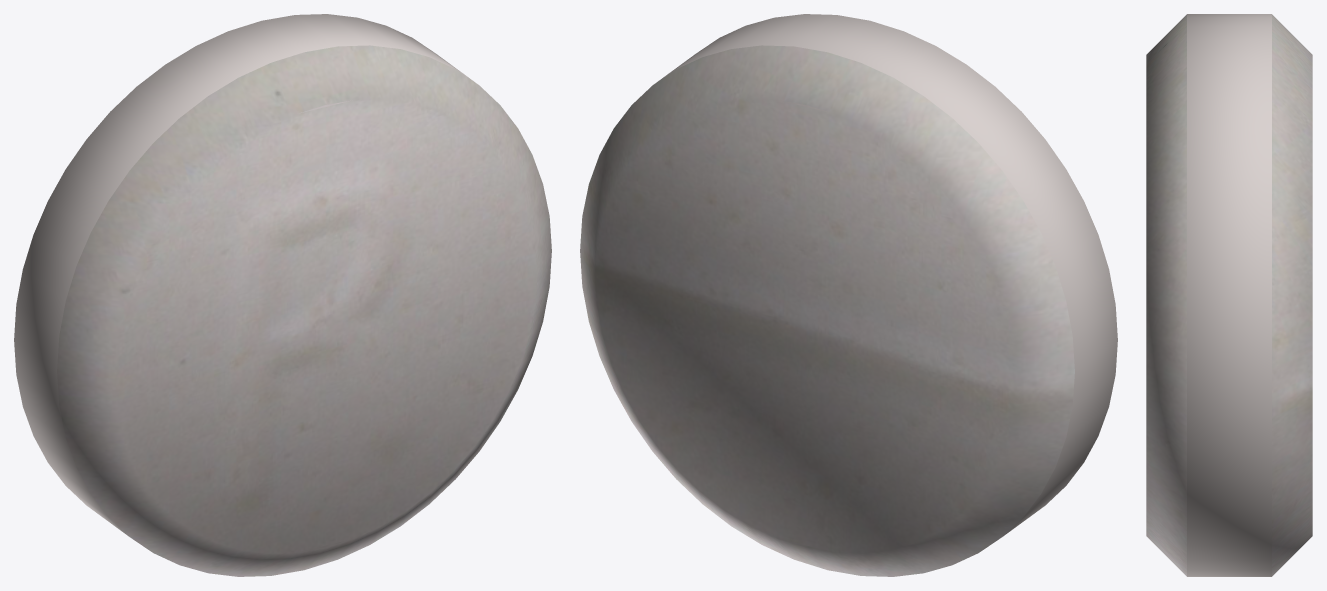
File: 20170803GOPHDRGPT29903.fbx
3 views of the same model, side by side, from view 1: azimuth 30°, elevation 25°; view 2: azimuth 150°, elevation 25°; view 3: azimuth 270°, elevation 25° (orthographic).
Parts seen in each view (by area): view 1: 貝茲圓.007; view 2: 貝茲圓.007; view 3: 貝茲圓.007.
Part boxes in pixels (<box>): 貝茲圓.007: <box>14,14,551,576</box>; 貝茲圓.007: <box>580,14,1117,576</box>; 貝茲圓.007: <box>1146,14,1312,576</box>.
Size of the model in its own units: 1.41 by 1.41 by 0.4159.
